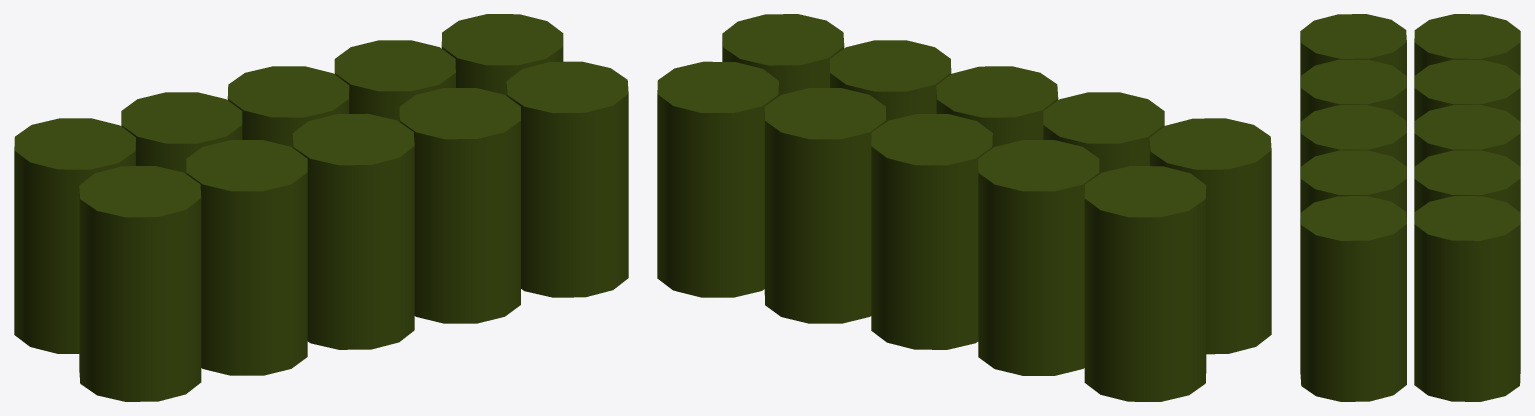
Rendered from T1_TiresCol01R_M.fbx.
3 views of the same model, side by side, from view 1: azimuth 30°, elevation 25°; view 2: azimuth 150°, elevation 25°; view 3: azimuth 270°, elevation 25° (orthographic). The views are drawn at different scales.
Visible parts, largest first — view 1: T1_TiresCol01R; view 2: T1_TiresCol01R; view 3: T1_TiresCol01R.
Part boxes in pixels (x1,y1,x2,y2): T1_TiresCol01R: [14, 14, 628, 401]; T1_TiresCol01R: [657, 14, 1271, 401]; T1_TiresCol01R: [1300, 14, 1520, 401].
Bounding box in the file's own units: 1.96 × 0.6495 × 0.8041.
